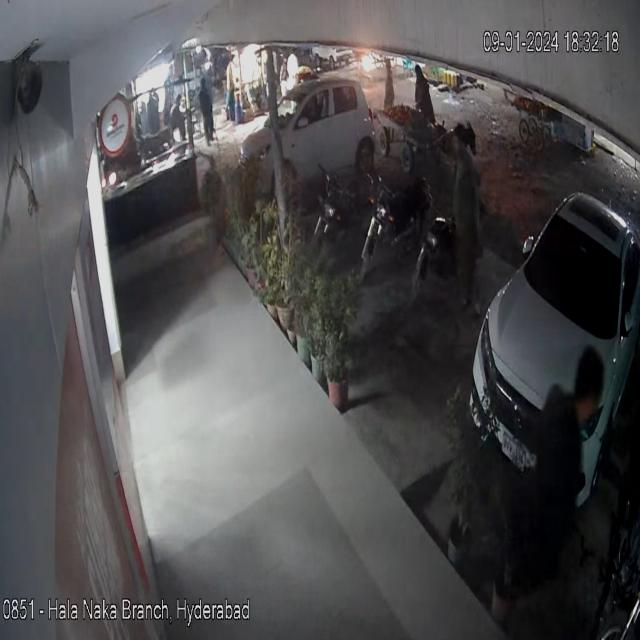Car: (469, 174, 640, 527), (239, 80, 393, 202)
Motorcycle: (362, 161, 434, 290), (303, 153, 372, 264)
